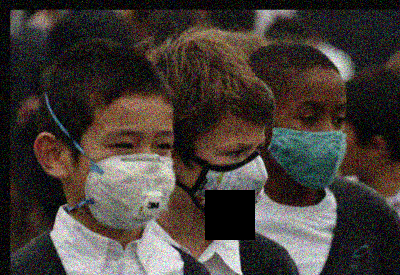with_mask: (71, 126, 177, 231), (185, 136, 268, 223), (268, 99, 348, 189)
